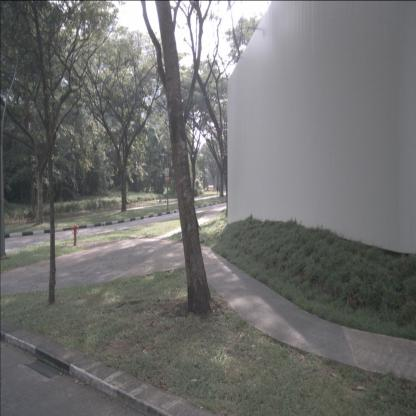human-pedestrian-adult: (216, 184, 218, 196), (218, 184, 220, 195)
